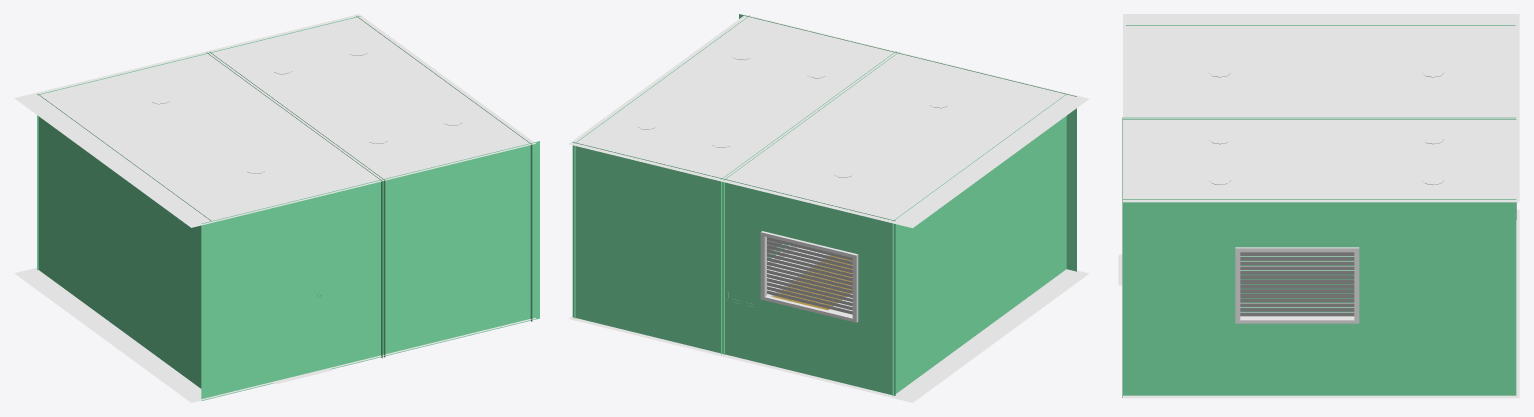
Rendered from Room02.fbx.
The picture shows the model from 3 angles, left to right: view 1: azimuth 30°, elevation 25°; view 2: azimuth 150°, elevation 25°; view 3: azimuth 270°, elevation 25°; orthographic projection. The views are drawn at different scales.
Parts seen in each view (by area): view 1: pCube104, pCube101, pCube103, pCube102, pCube73, pCube77, pCube74; view 2: pCube101, pCube74, pCube103, pCube102, pCube104, pCube99, pCube73, pCube71, pCube77, pCube68; view 3: pCube101, pCube77, pCube73, pCube102, pCube31, pCube34, pCube41, pCube35, pCube37, pCube38, pCube46, pCube40 (+8 smaller).
Part boxes in pixels (bbox=[...]): pCube104: bbox=[201, 141, 539, 400]; pCube101: bbox=[14, 14, 535, 227]; pCube103: bbox=[38, 94, 210, 388]; pCube102: bbox=[14, 267, 535, 402]; pCube73: bbox=[206, 52, 385, 358]; pCube77: bbox=[356, 16, 532, 321]; pCube74: bbox=[37, 16, 360, 270]; pCube101: bbox=[568, 14, 1089, 228]; pCube74: bbox=[572, 142, 895, 395]; pCube103: bbox=[892, 94, 1066, 395]; pCube102: bbox=[568, 269, 1089, 402]; pCube104: bbox=[739, 14, 1076, 271]; pCube99: bbox=[760, 231, 858, 322]; pCube73: bbox=[721, 51, 898, 354]; pCube71: bbox=[728, 245, 829, 297]; pCube77: bbox=[574, 15, 749, 318]; pCube68: bbox=[823, 255, 852, 310]; pCube101: bbox=[1123, 14, 1519, 202]; pCube77: bbox=[1122, 199, 1516, 397]; pCube73: bbox=[1122, 117, 1516, 312]; pCube102: bbox=[1123, 209, 1519, 398]; pCube31: bbox=[1235, 247, 1359, 323]; pCube34: bbox=[1240, 256, 1354, 260]; pCube41: bbox=[1240, 289, 1354, 293]; pCube35: bbox=[1240, 261, 1354, 265]; pCube37: bbox=[1240, 270, 1354, 274]; pCube38: bbox=[1240, 275, 1354, 279]; pCube46: bbox=[1240, 312, 1354, 316]; pCube40: bbox=[1240, 284, 1354, 288].
Size of the model in its own units: 619 by 300 by 549.
